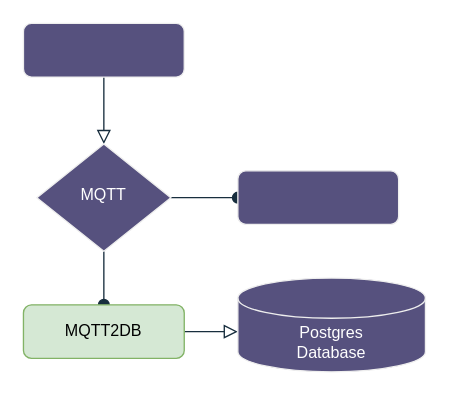
Image size: 449x395. Some labels were removed from this diagram. The shapes that lost their labels are listed below. From the top down, each one's box as (x1, y1, x2, y2) in pixels, then its label:
(22, 22, 184, 77): Hichi Sensor Power counter
(237, 170, 399, 224): Home Assistent (optional)
